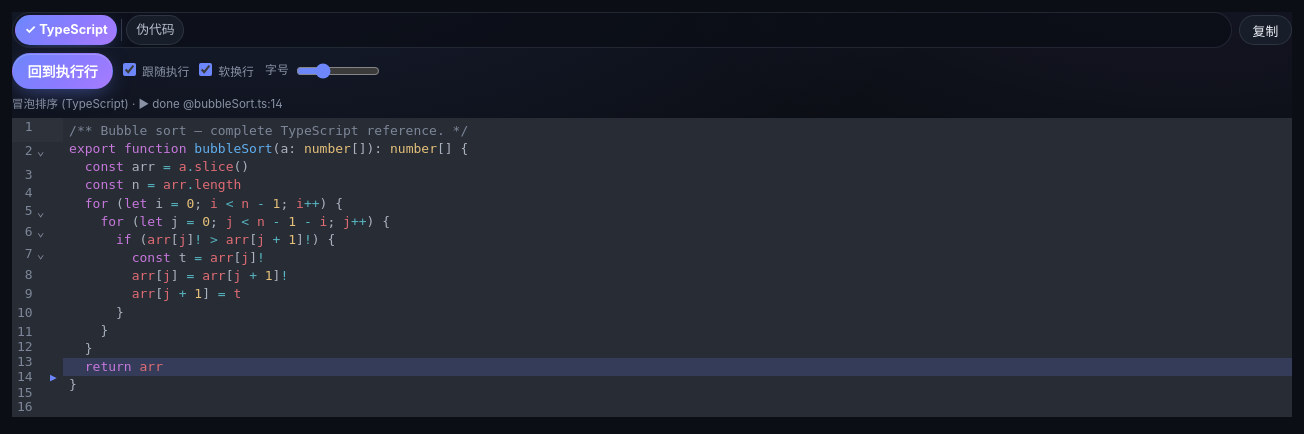
Test: V27 honest state when the shown document has no location for the step › pseudo doc without the anchor: explicit notice, no active line, goto disabled, entry to the full implementation
The width and height of the screenshot is (1304, 434).
What coordinates should you click on to do the following:
click the button with test id "tab-pseudo"
I would click on:
 (156, 30)
Its box is [126, 15, 184, 45].
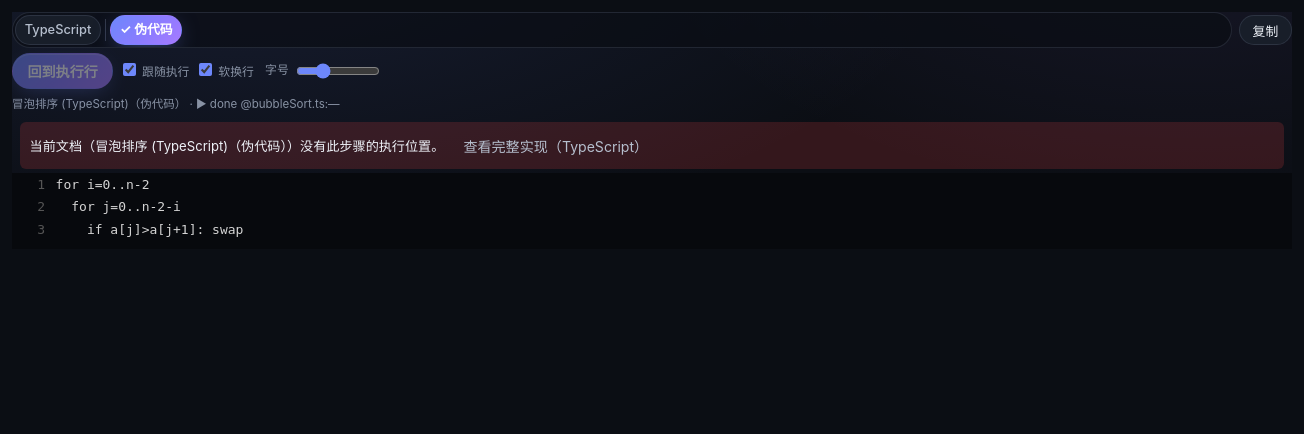
Expected: the message with test id "code-doc-no-location" reads "当前文档（冒泡排序 (TypeScript)（伪代码））没有此步骤的执行位置。 查看完整实现（TypeScript）", [20, 122, 1284, 169]
Expected: the button with test id "goto-exec-btn" is disabled, [12, 53, 113, 89]
What coordinates should you click on to do the following:
click the button with test id "code-doc-open-ts"
I would click on:
 (556, 146)
Its box is [448, 127, 664, 164].
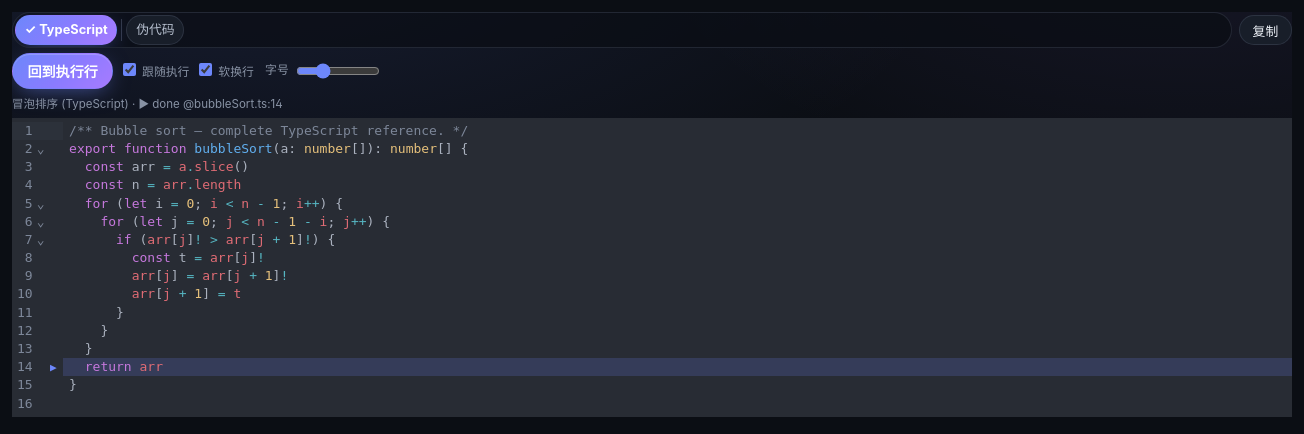
Expected: the message with test id "code-doc-no-location" is gone
